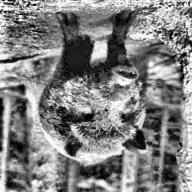boar: (41, 2, 154, 178)
